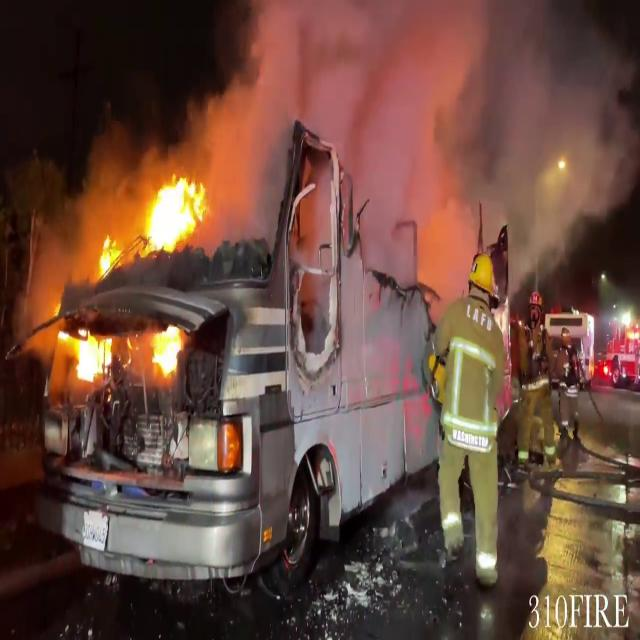Fire: (57, 167, 215, 390), (137, 171, 213, 253), (148, 322, 188, 382)
